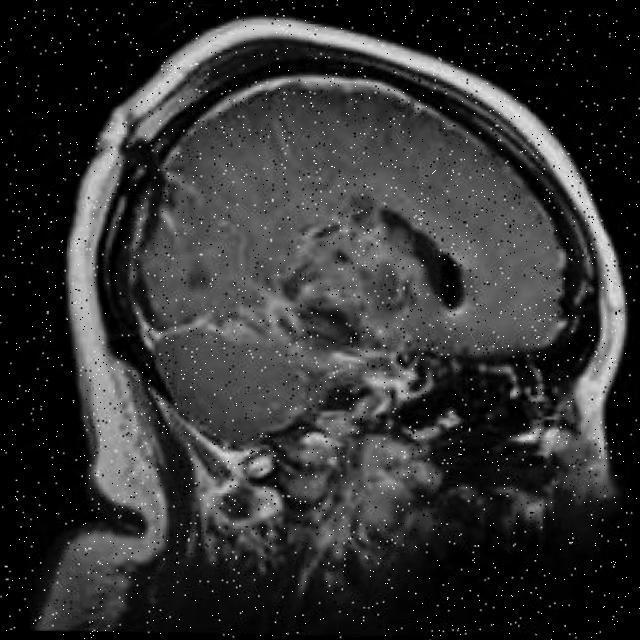CN: (346, 193, 517, 341)
